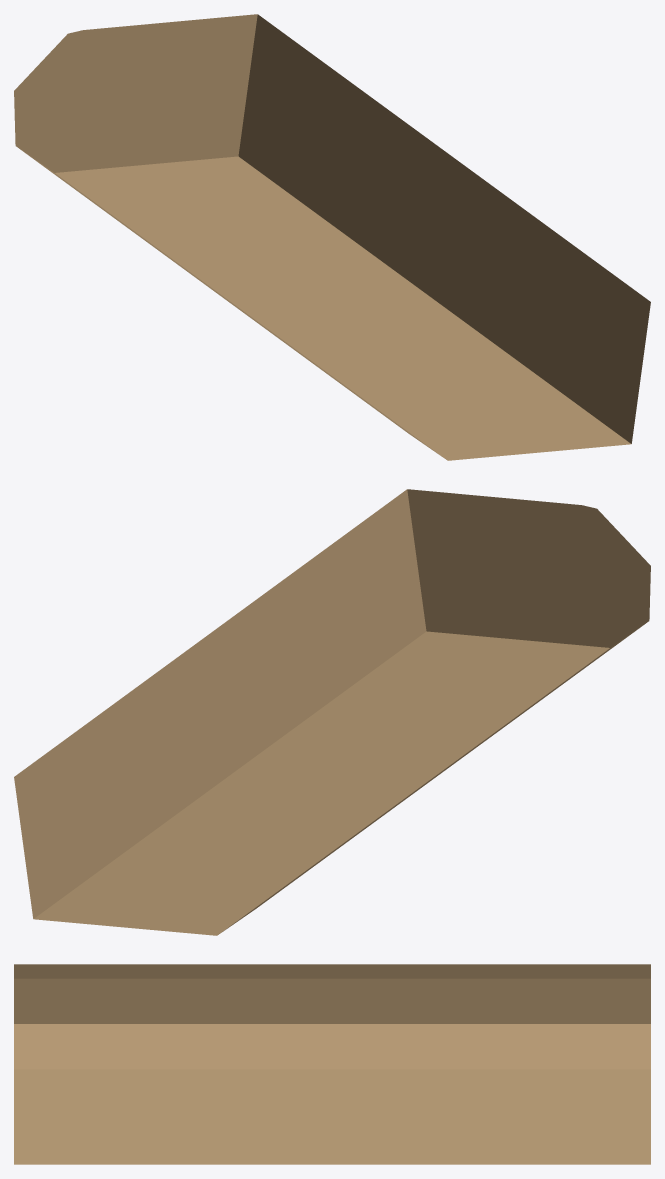
3 views of the same model, one above another, from view 1: azimuth 30°, elevation 25°; view 2: azimuth 150°, elevation 25°; view 3: azimuth 270°, elevation 25° (orthographic). The views are drawn at different scales.
Visible parts, largest first — view 1: 0_0_1_3_2_2_1_2_1_2_3; view 2: 0_0_1_3_2_2_1_2_1_2_3; view 3: 0_0_1_3_2_2_1_2_1_2_3.
Part boxes in pixels (box(x1,y1,x2,y2)): 0_0_1_3_2_2_1_2_1_2_3: box(14, 14, 650, 460); 0_0_1_3_2_2_1_2_1_2_3: box(14, 489, 650, 935); 0_0_1_3_2_2_1_2_1_2_3: box(14, 964, 650, 1164).
Bounding box in the file's own units: 7.51 × 4.84 × 21.
